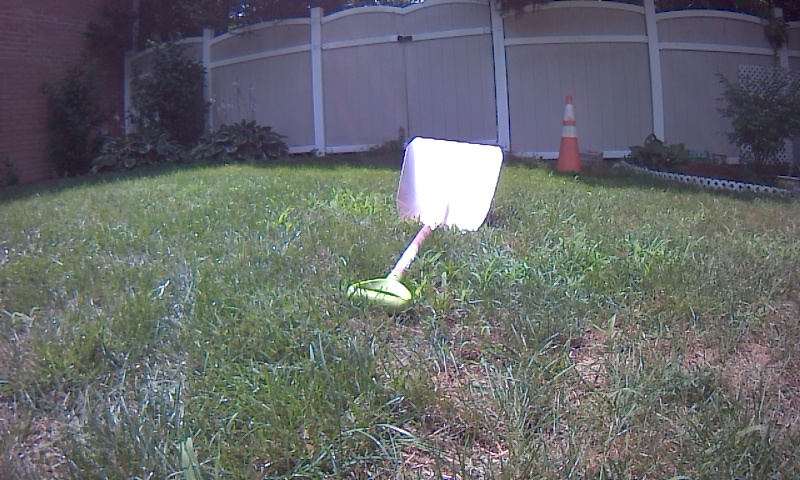shovel: (333, 122, 518, 332)
